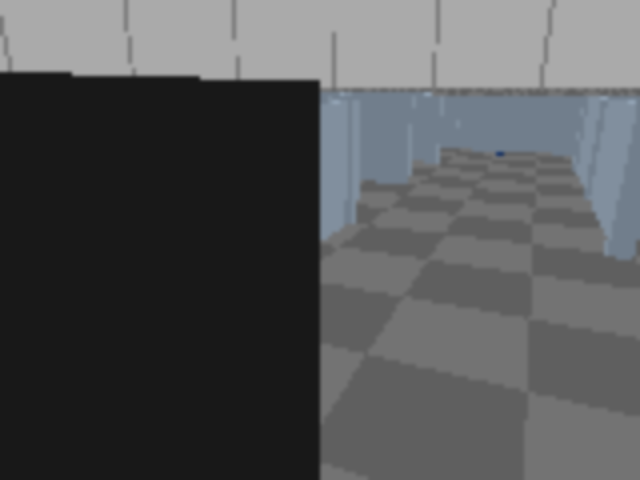traffic_light: (0, 0, 319, 478)
